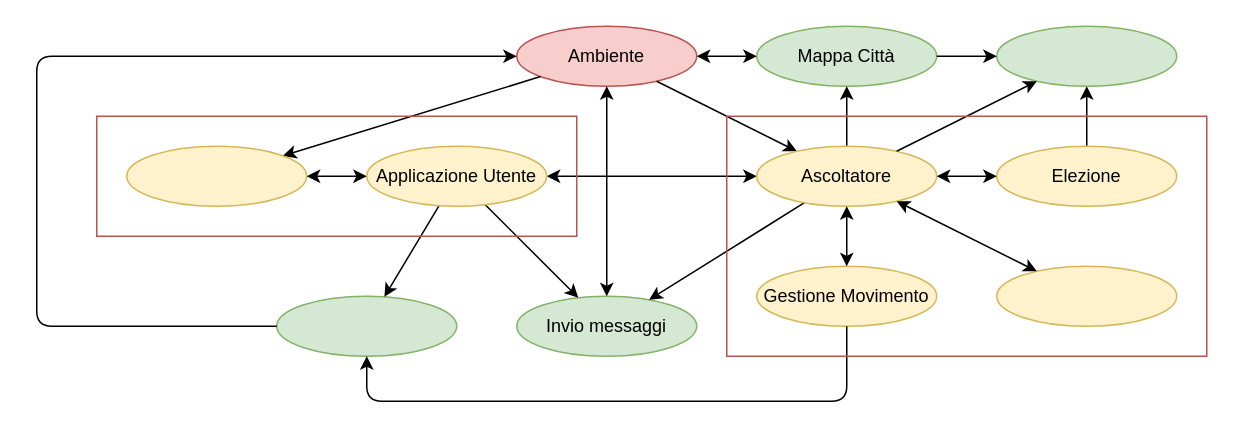
The diagram is 1233 pixels wide and 440 high, and some of its shapes have lost their labels. Here are the shapes that lost their labels. From the top down, the box of each, then its label:
(995, 25, 1177, 86): Algoritmi Grafo
(125, 145, 307, 206): Utente
(995, 265, 1177, 326): Gestione Batteria
(275, 295, 457, 356): Scheda wireless
